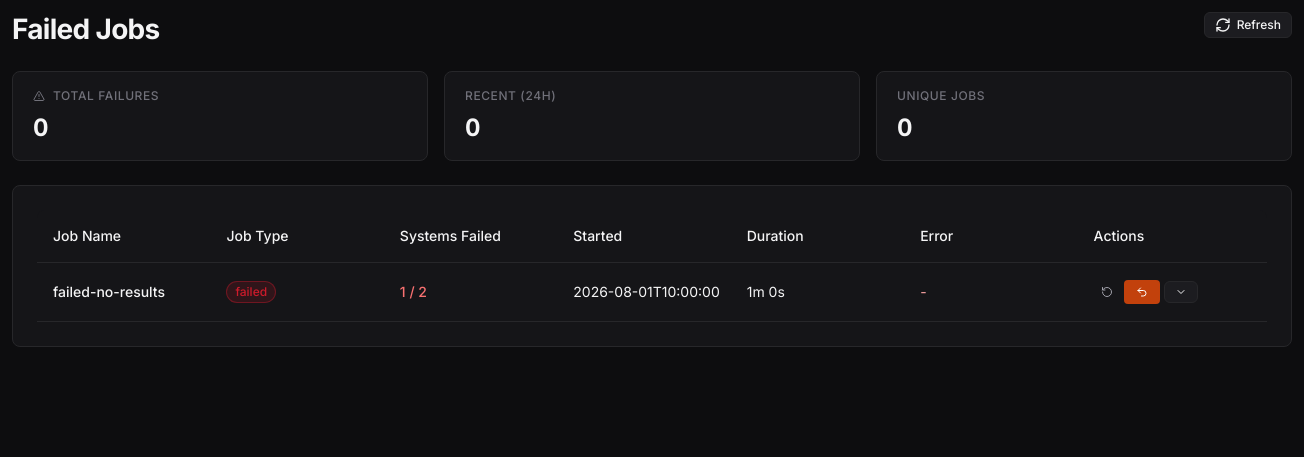
Test: failed jobs detailed results › omits the detail block for a failed run with no recorded result
Expected: the text titled "failed-no-results" is shown, [53,283,165,300]
Click the button titled "Toggle Details".
click(1181, 292)  # box [1164,281,1198,303]
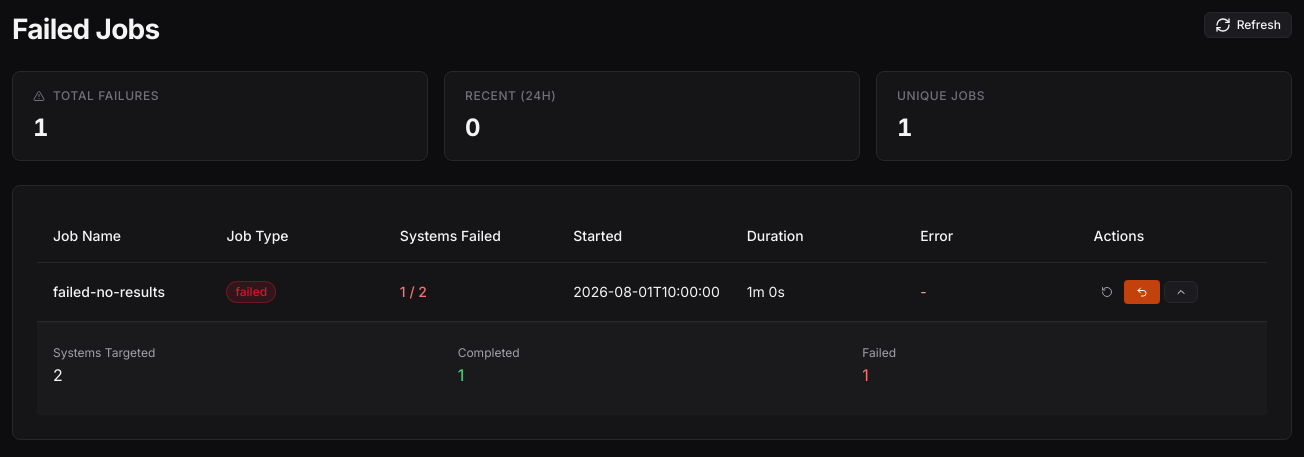
Expected: the text "Systems Targeted" is shown, [53,345,155,360]
